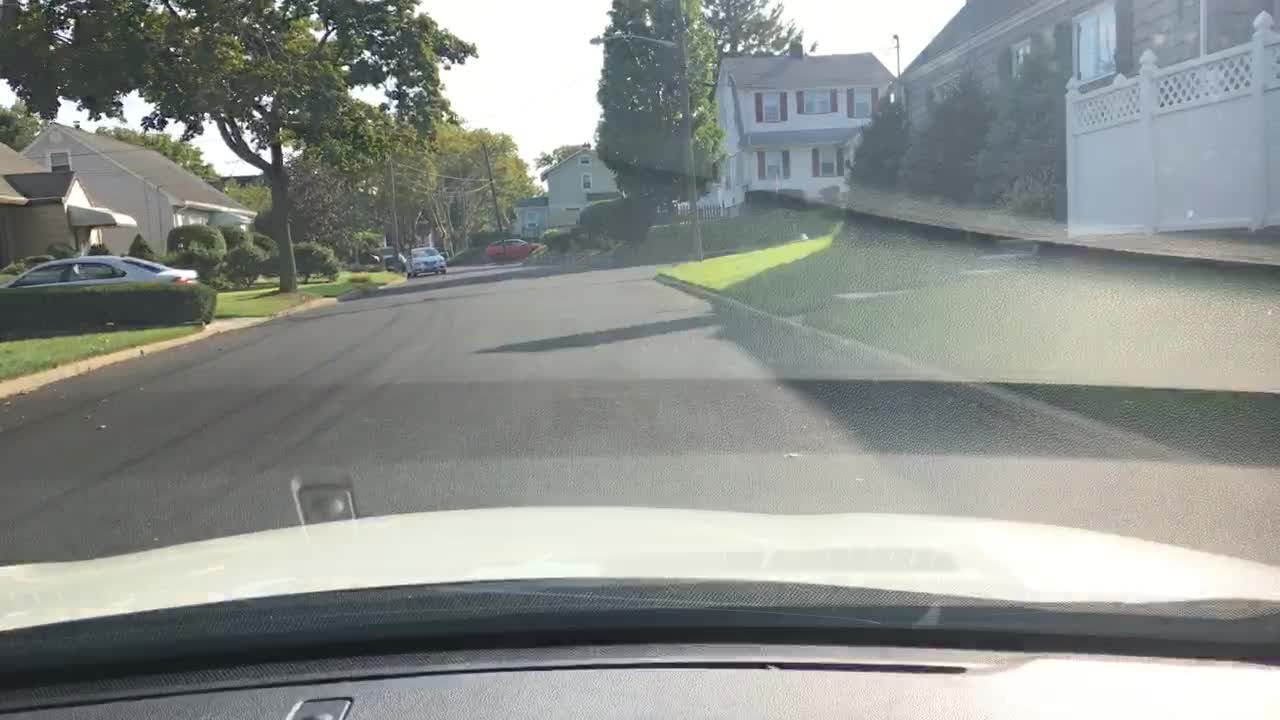car: (0, 253, 199, 290), (403, 244, 448, 278), (484, 237, 545, 261), (376, 245, 407, 273)
